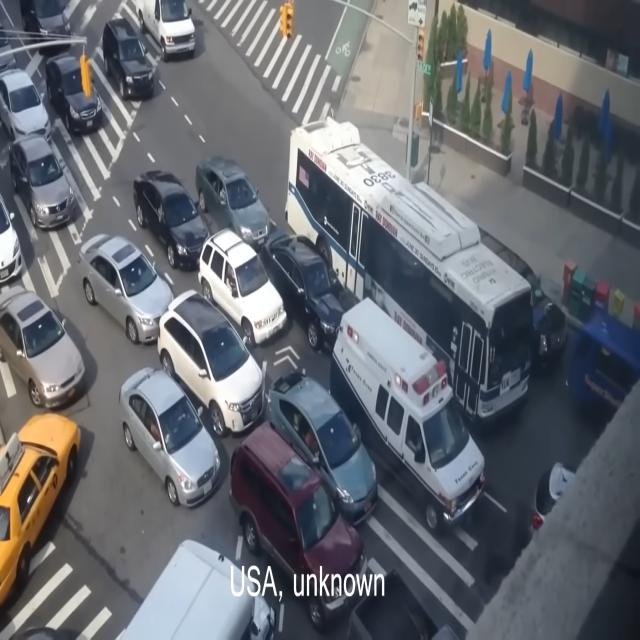ambulance: (340, 287, 490, 536)
